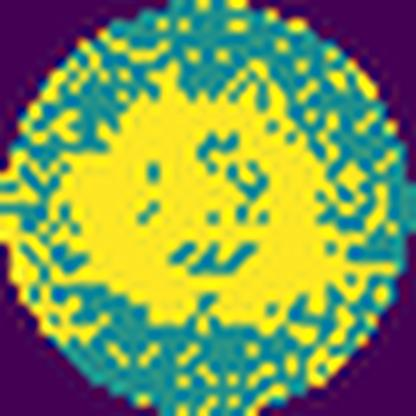Center: (60, 63, 332, 324)
